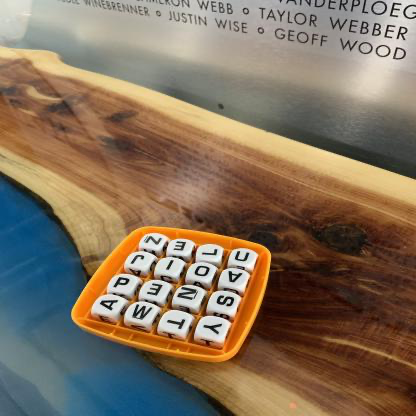a: (94, 294, 126, 316), (222, 269, 249, 287)
e: (141, 281, 170, 301), (169, 240, 194, 256)
i: (158, 259, 183, 275)
j: (127, 252, 153, 270)
l: (197, 245, 224, 263)
n: (176, 286, 206, 306)
o: (189, 263, 216, 281)
p: (109, 275, 138, 294)
s: (210, 292, 239, 312)
t: (161, 312, 193, 333)
u: (231, 249, 257, 266)
w: (127, 302, 159, 324)
y: (197, 317, 231, 340)
z: (143, 234, 169, 250)
